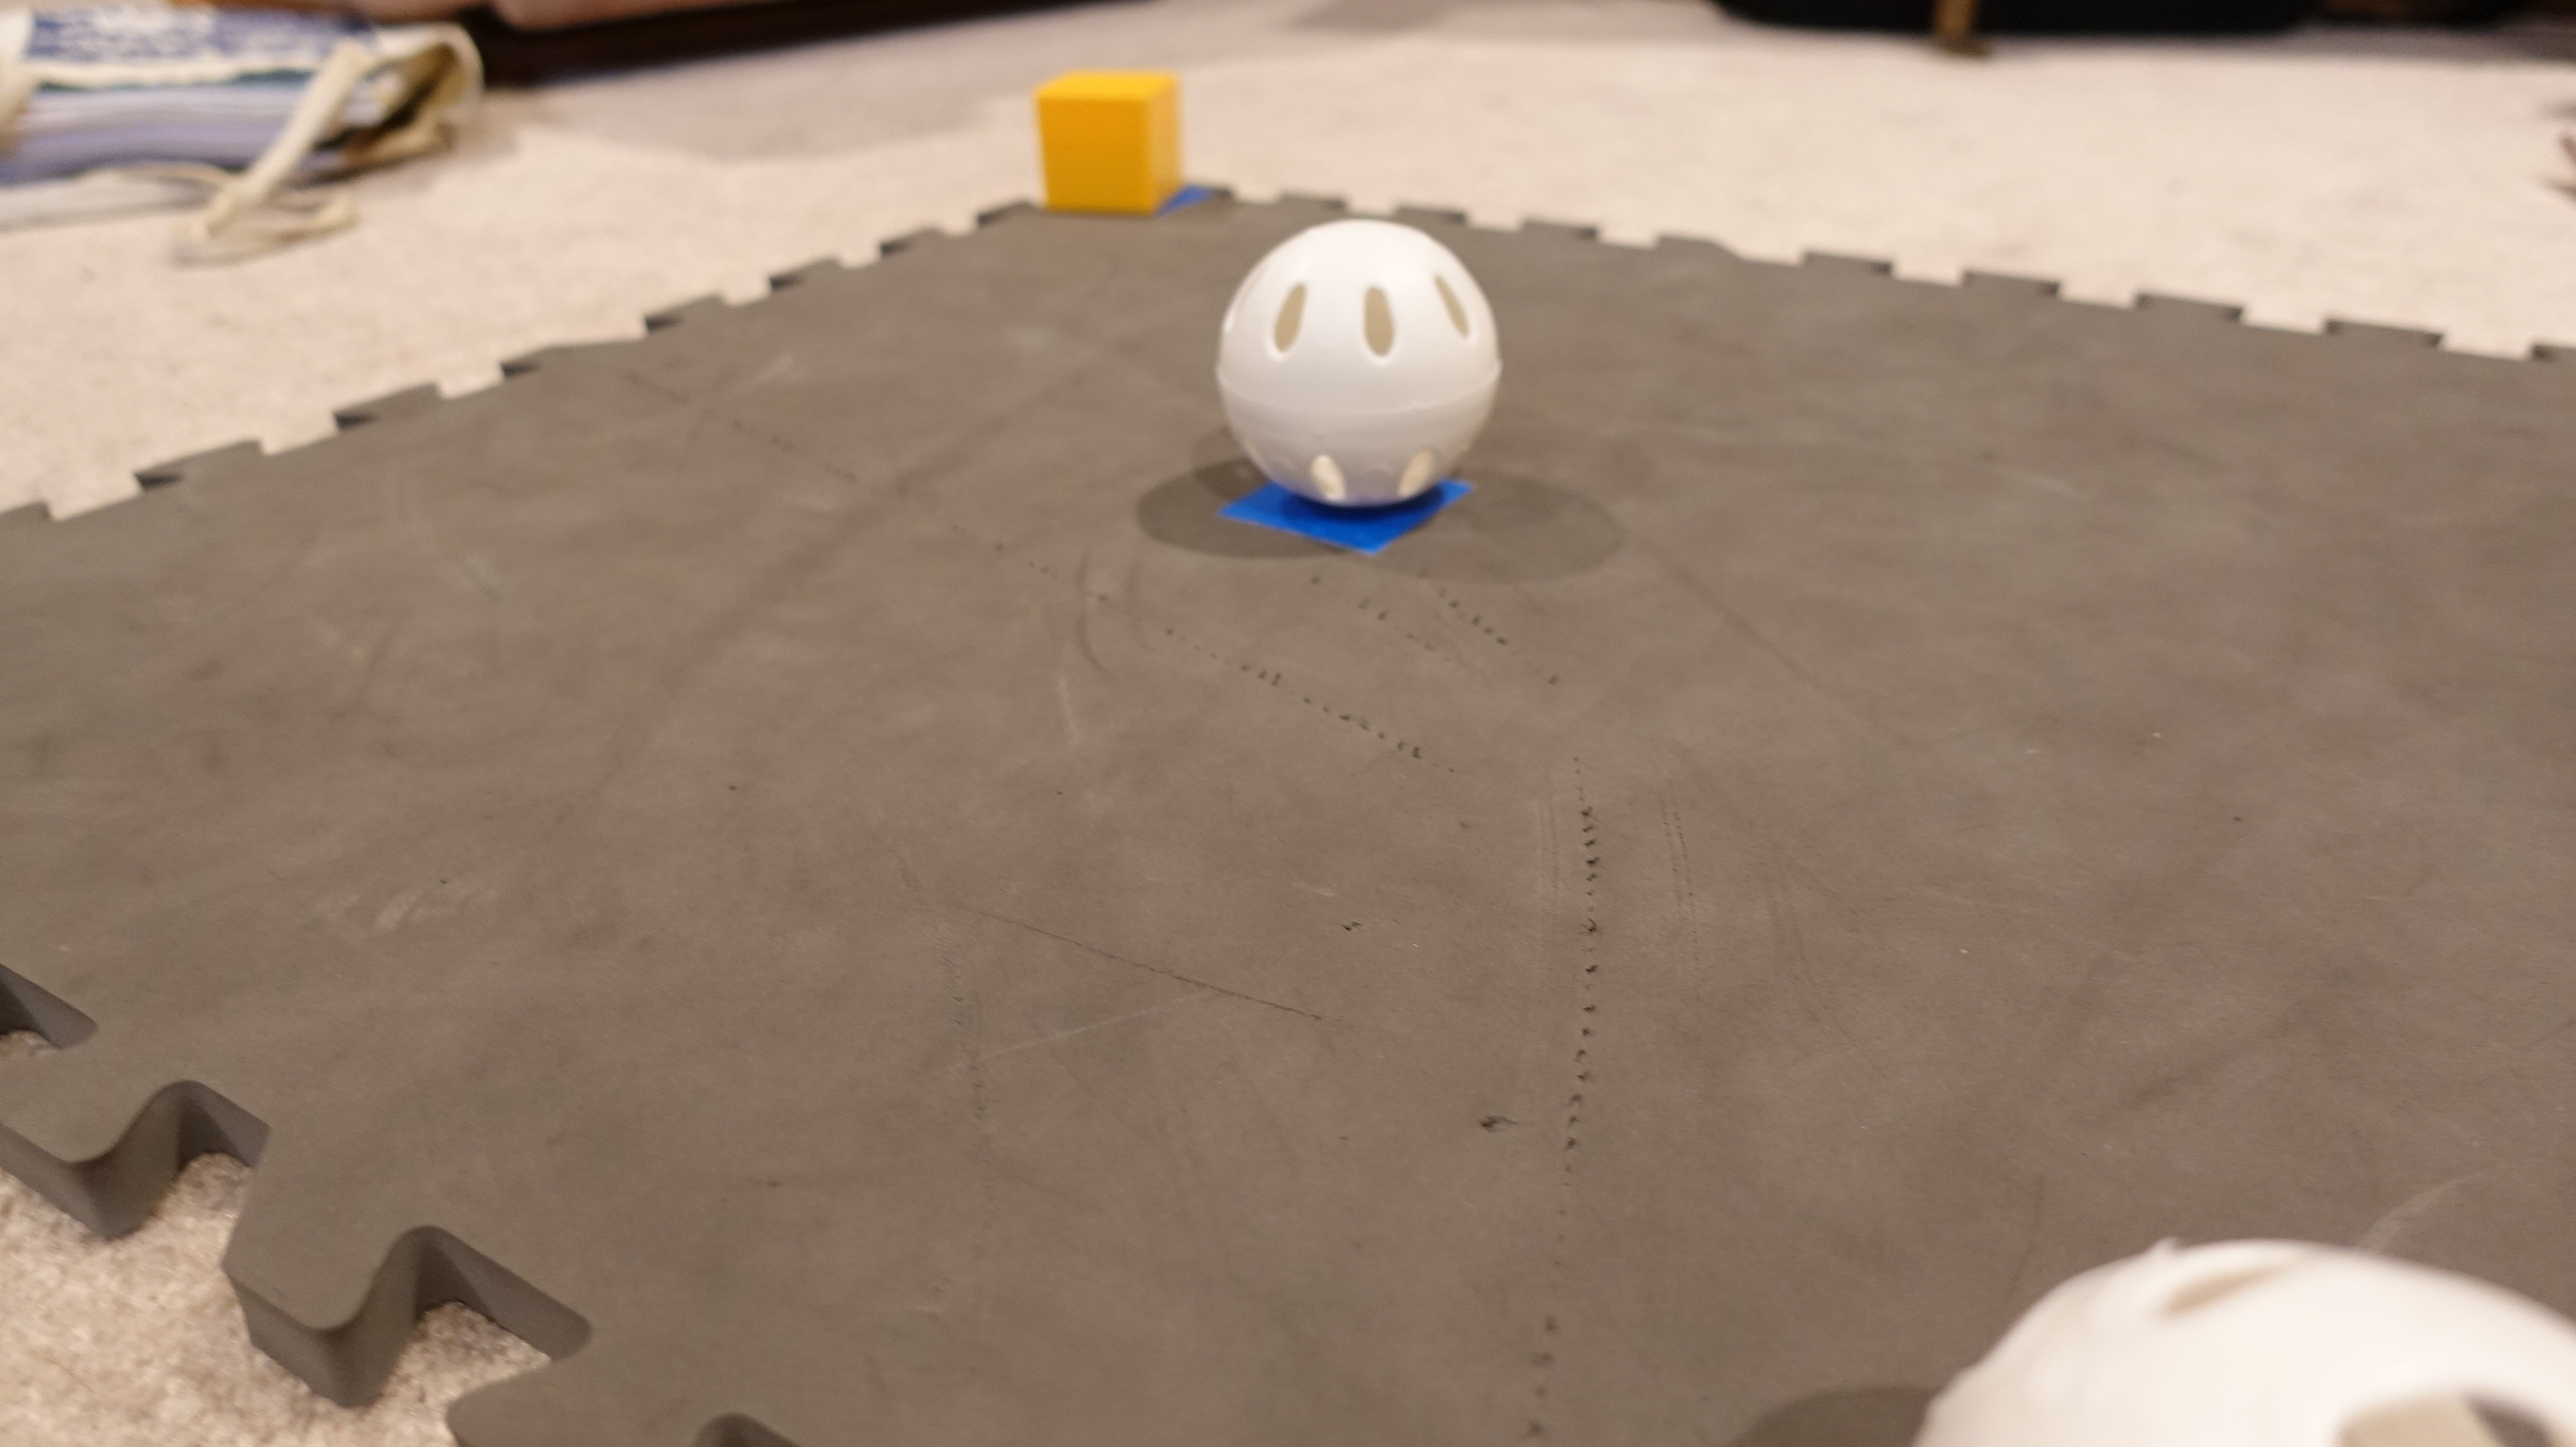gold: (1024, 58, 1192, 225)
silver: (1902, 1236, 2576, 1445), (1208, 218, 1506, 511)
